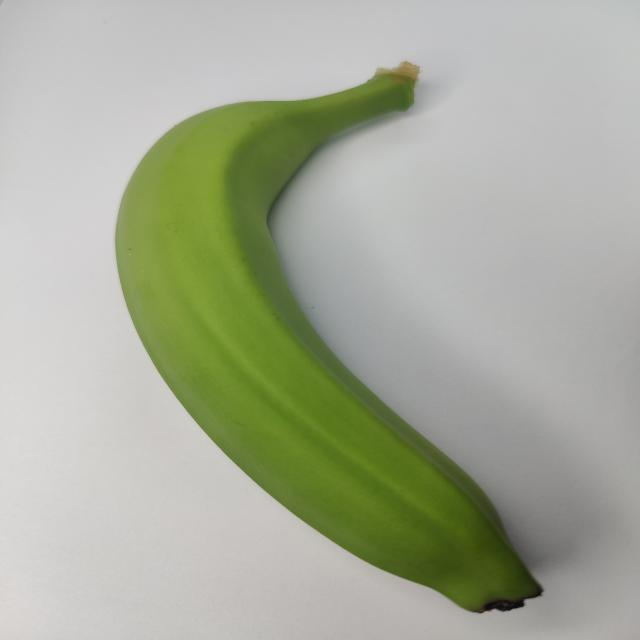raw: (85, 53, 602, 618)
